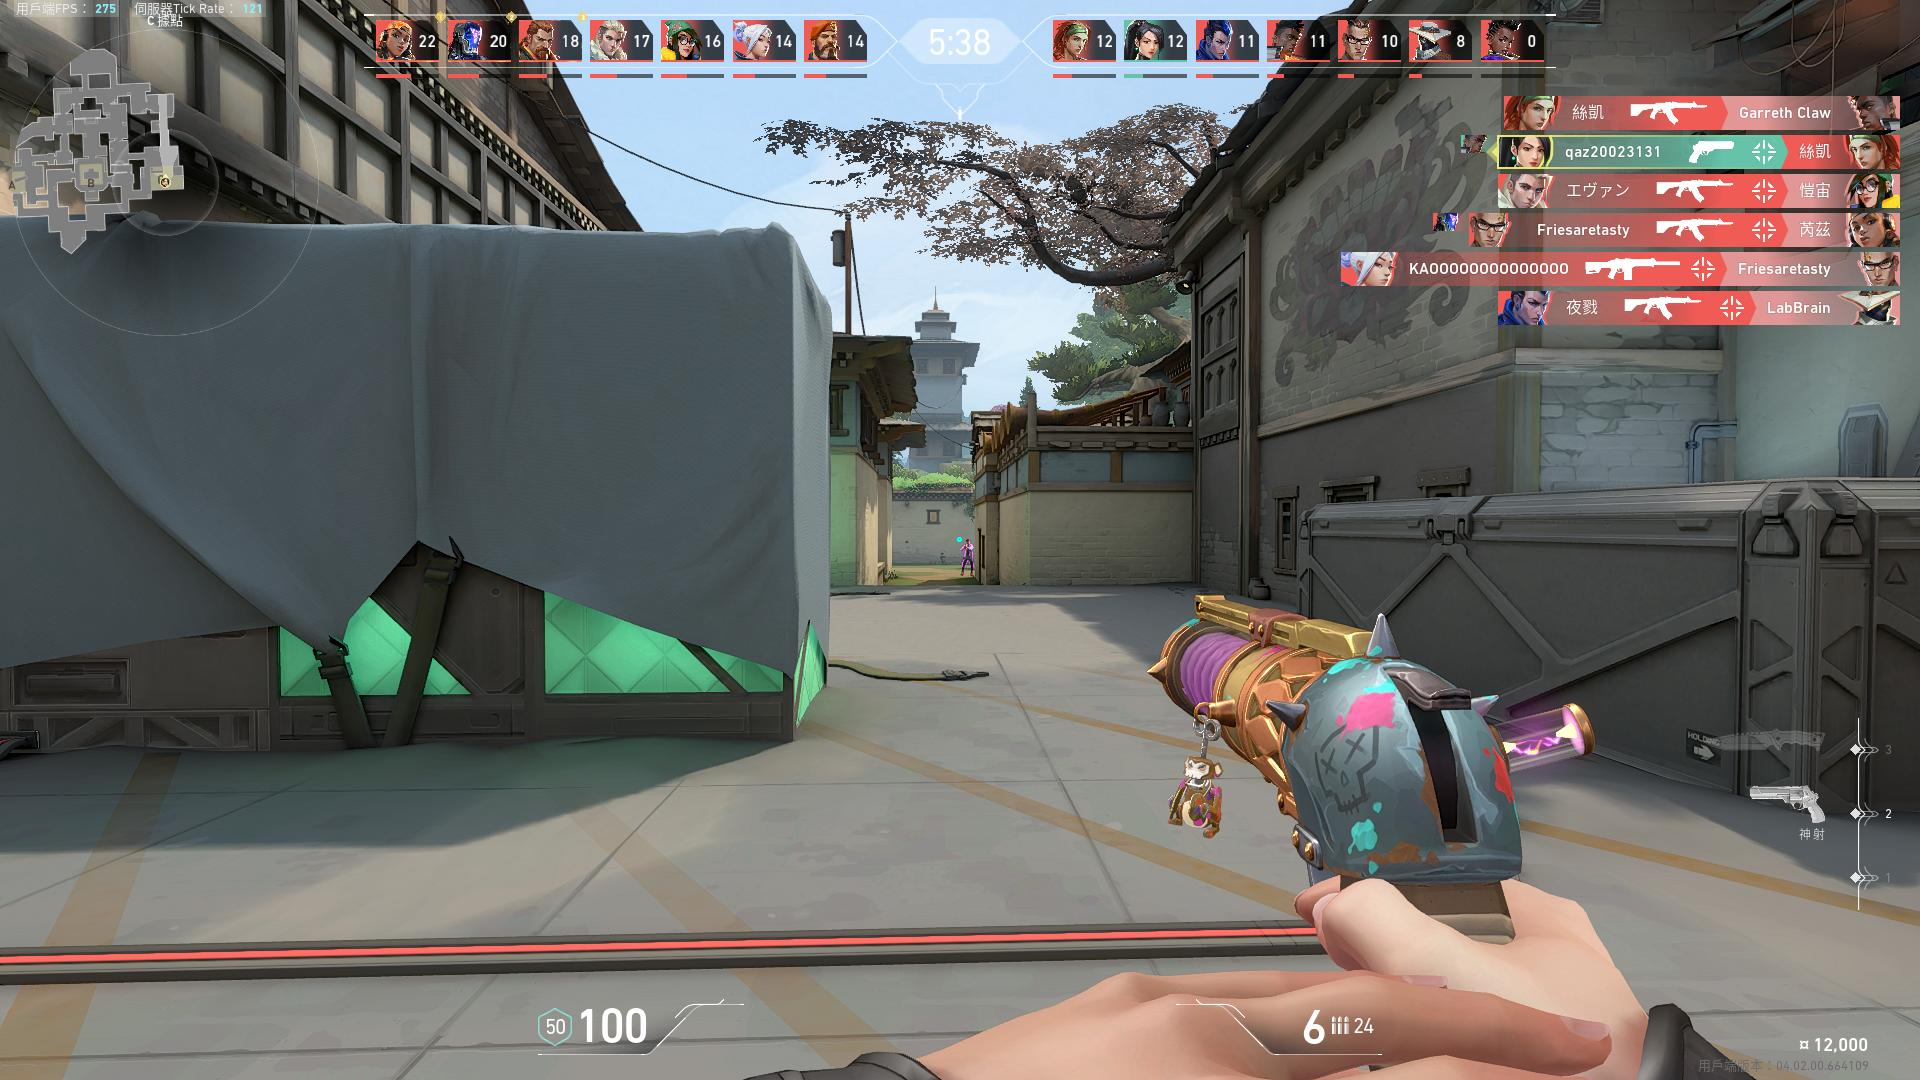enemyBody: (967, 545, 971, 556)
enemyHead: (967, 541, 969, 545)
